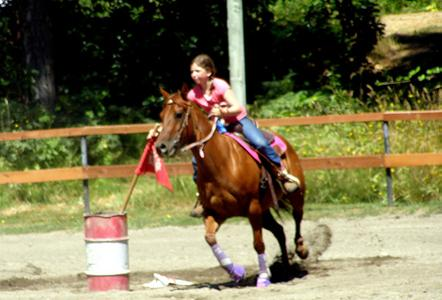person: (186, 55, 302, 218)
